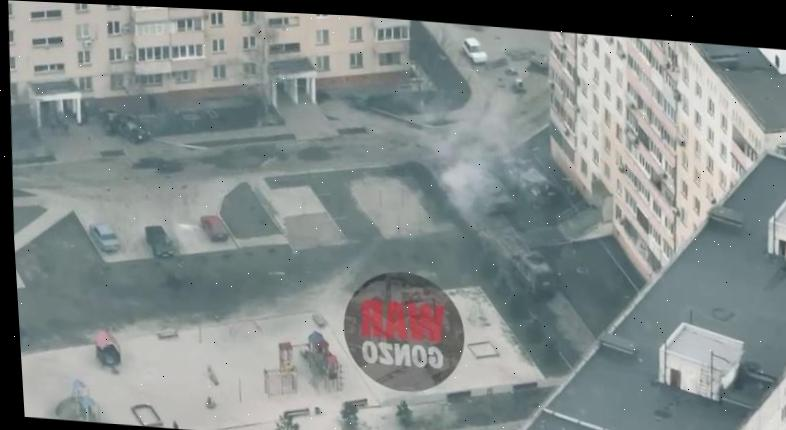armored_car: (504, 244, 557, 297)
car: (99, 107, 151, 145), (143, 223, 175, 257), (87, 219, 121, 251), (198, 213, 229, 241), (459, 35, 487, 63)
tank: (504, 155, 558, 216), (467, 168, 513, 214)
